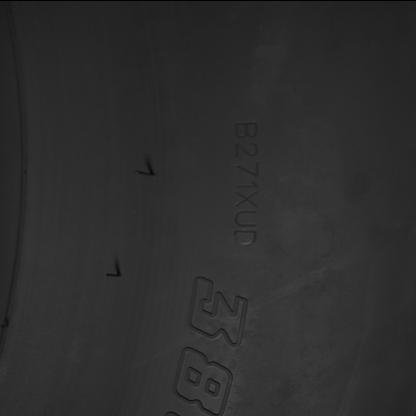ocr: (231, 120, 261, 246)
